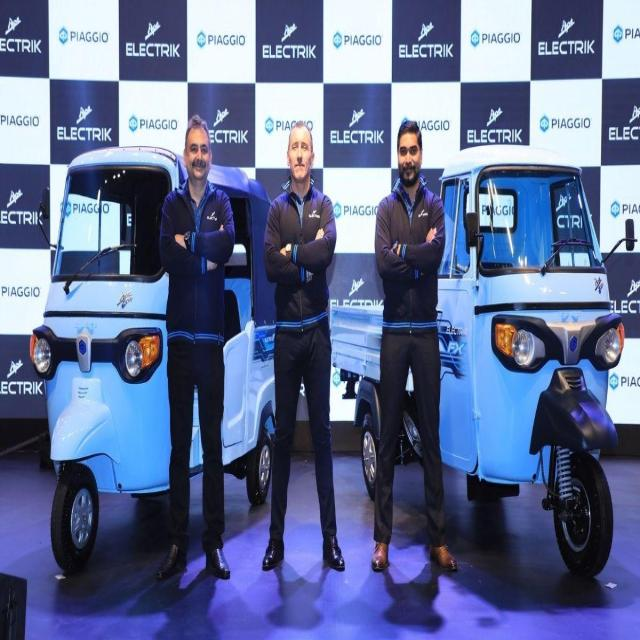autorickshaw: (331, 147, 625, 577), (30, 147, 188, 570), (210, 167, 275, 503)
